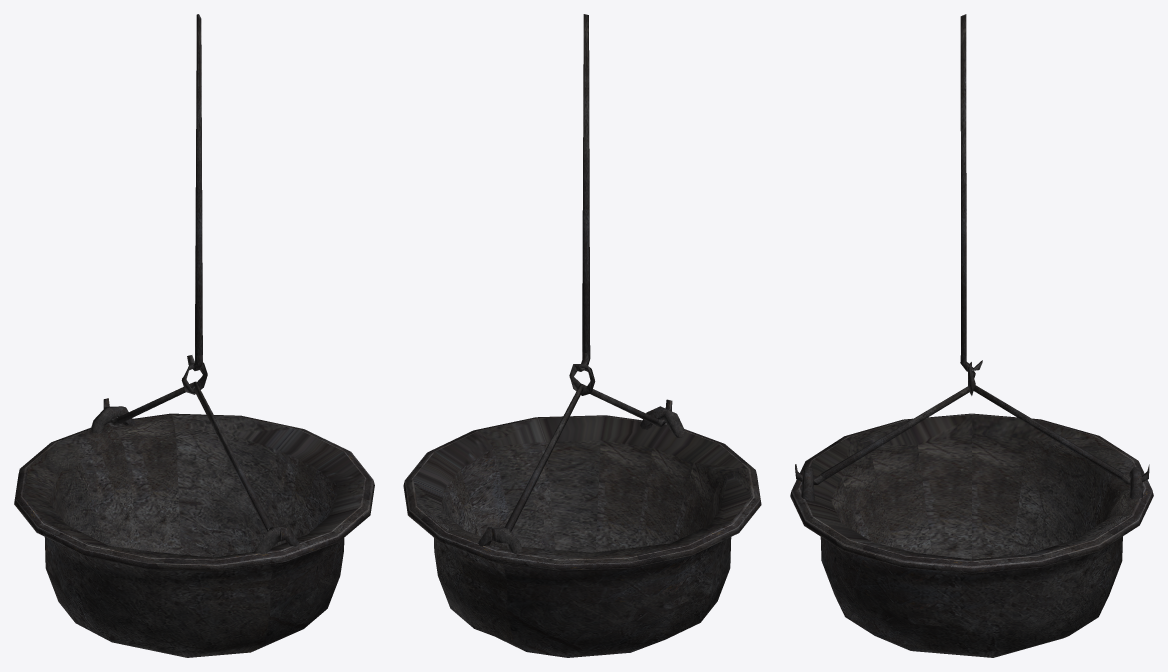
The model's file is tavern_cooker_LOD1.obj.
3 renders of one model, left to right at view 1: azimuth 30°, elevation 25°; view 2: azimuth 150°, elevation 25°; view 3: azimuth 270°, elevation 25°, orthographic.
Parts seen in each view (by area): view 1: Default_Layer; view 2: Default_Layer; view 3: Default_Layer.
Part boxes in pixels (left/top/right/bottom): Default_Layer: left=14, top=14, right=374, bottom=657; Default_Layer: left=403, top=14, right=761, bottom=657; Default_Layer: left=790, top=14, right=1153, bottom=657.
Size of the model in its own units: 6.2 by 11.34 by 6.2.
Materials: 1 (1 with a texture image).
